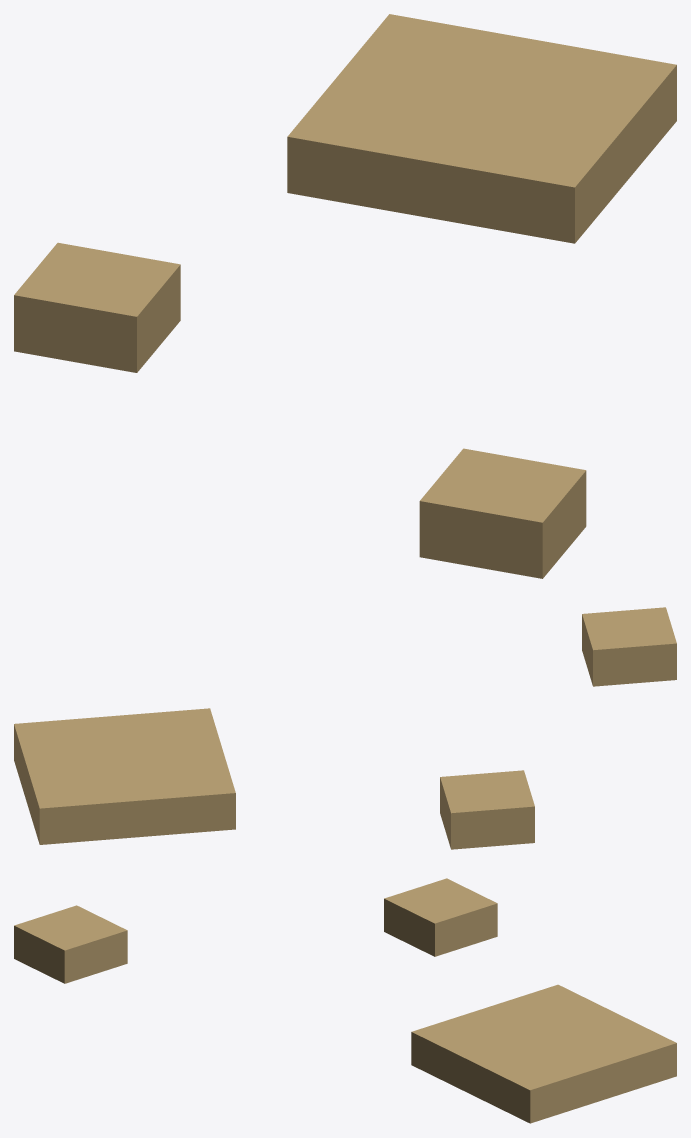
The model's file is SM_Env_Rubble_02.fbx.
3 renders of one model, top to bottom at view 1: azimuth 30°, elevation 25°; view 2: azimuth 150°, elevation 25°; view 3: azimuth 270°, elevation 25°, orthographic. The views are drawn at different scales.
Visible parts, largest first — view 1: SM_Env_Rubble_02; view 2: SM_Env_Rubble_02; view 3: SM_Env_Rubble_02.
Part boxes in pixels (x1=…): SM_Env_Rubble_02: x1=14, y1=14, x2=676, y2=578; SM_Env_Rubble_02: x1=14, y1=607, x2=676, y2=849; SM_Env_Rubble_02: x1=14, y1=878, x2=676, y2=1123.
Bounding box in the file's own units: 3.62 × 0.2654 × 4.79.
